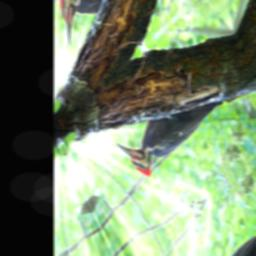Woodpecker: (115, 60, 227, 191)
